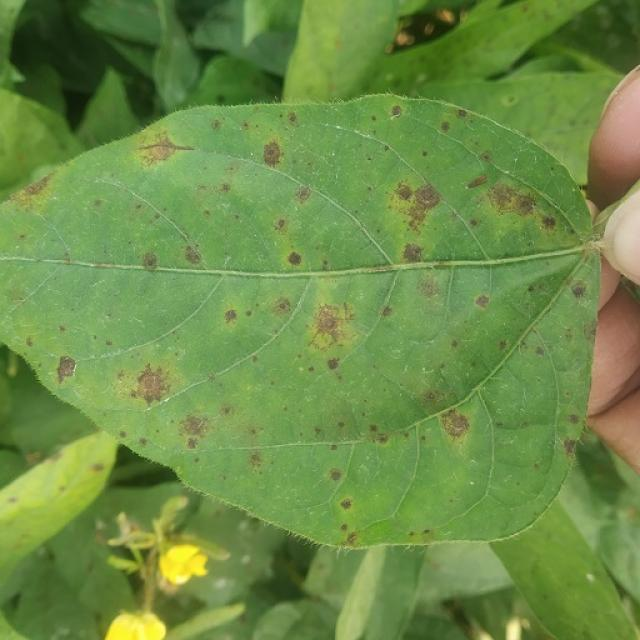Anthracnose: (392, 180, 444, 233), (307, 299, 357, 352), (129, 363, 177, 411), (484, 180, 541, 220), (137, 133, 195, 165), (13, 170, 55, 202), (439, 408, 471, 440), (366, 422, 395, 446), (55, 355, 78, 385), (262, 140, 283, 167), (419, 275, 440, 299), (184, 245, 202, 265), (141, 251, 159, 270), (273, 297, 292, 315), (570, 281, 588, 300), (294, 185, 311, 204), (467, 175, 488, 189), (563, 438, 578, 456), (287, 251, 302, 267), (249, 451, 263, 468), (474, 294, 489, 309), (224, 309, 238, 324), (340, 498, 353, 511), (329, 469, 342, 482), (287, 111, 299, 125), (220, 182, 232, 195), (381, 305, 393, 317), (211, 119, 223, 131), (345, 532, 357, 544), (391, 105, 402, 118), (567, 413, 580, 424), (91, 462, 105, 472), (440, 121, 451, 133), (534, 345, 545, 356), (276, 218, 286, 230), (498, 340, 508, 351), (62, 251, 72, 262), (222, 405, 232, 415), (457, 109, 468, 118), (25, 337, 34, 347), (118, 430, 127, 439), (7, 496, 17, 503), (340, 524, 348, 532), (105, 339, 113, 346), (422, 150, 428, 157), (384, 145, 390, 152)
Blackgram: (0, 96, 598, 546)
